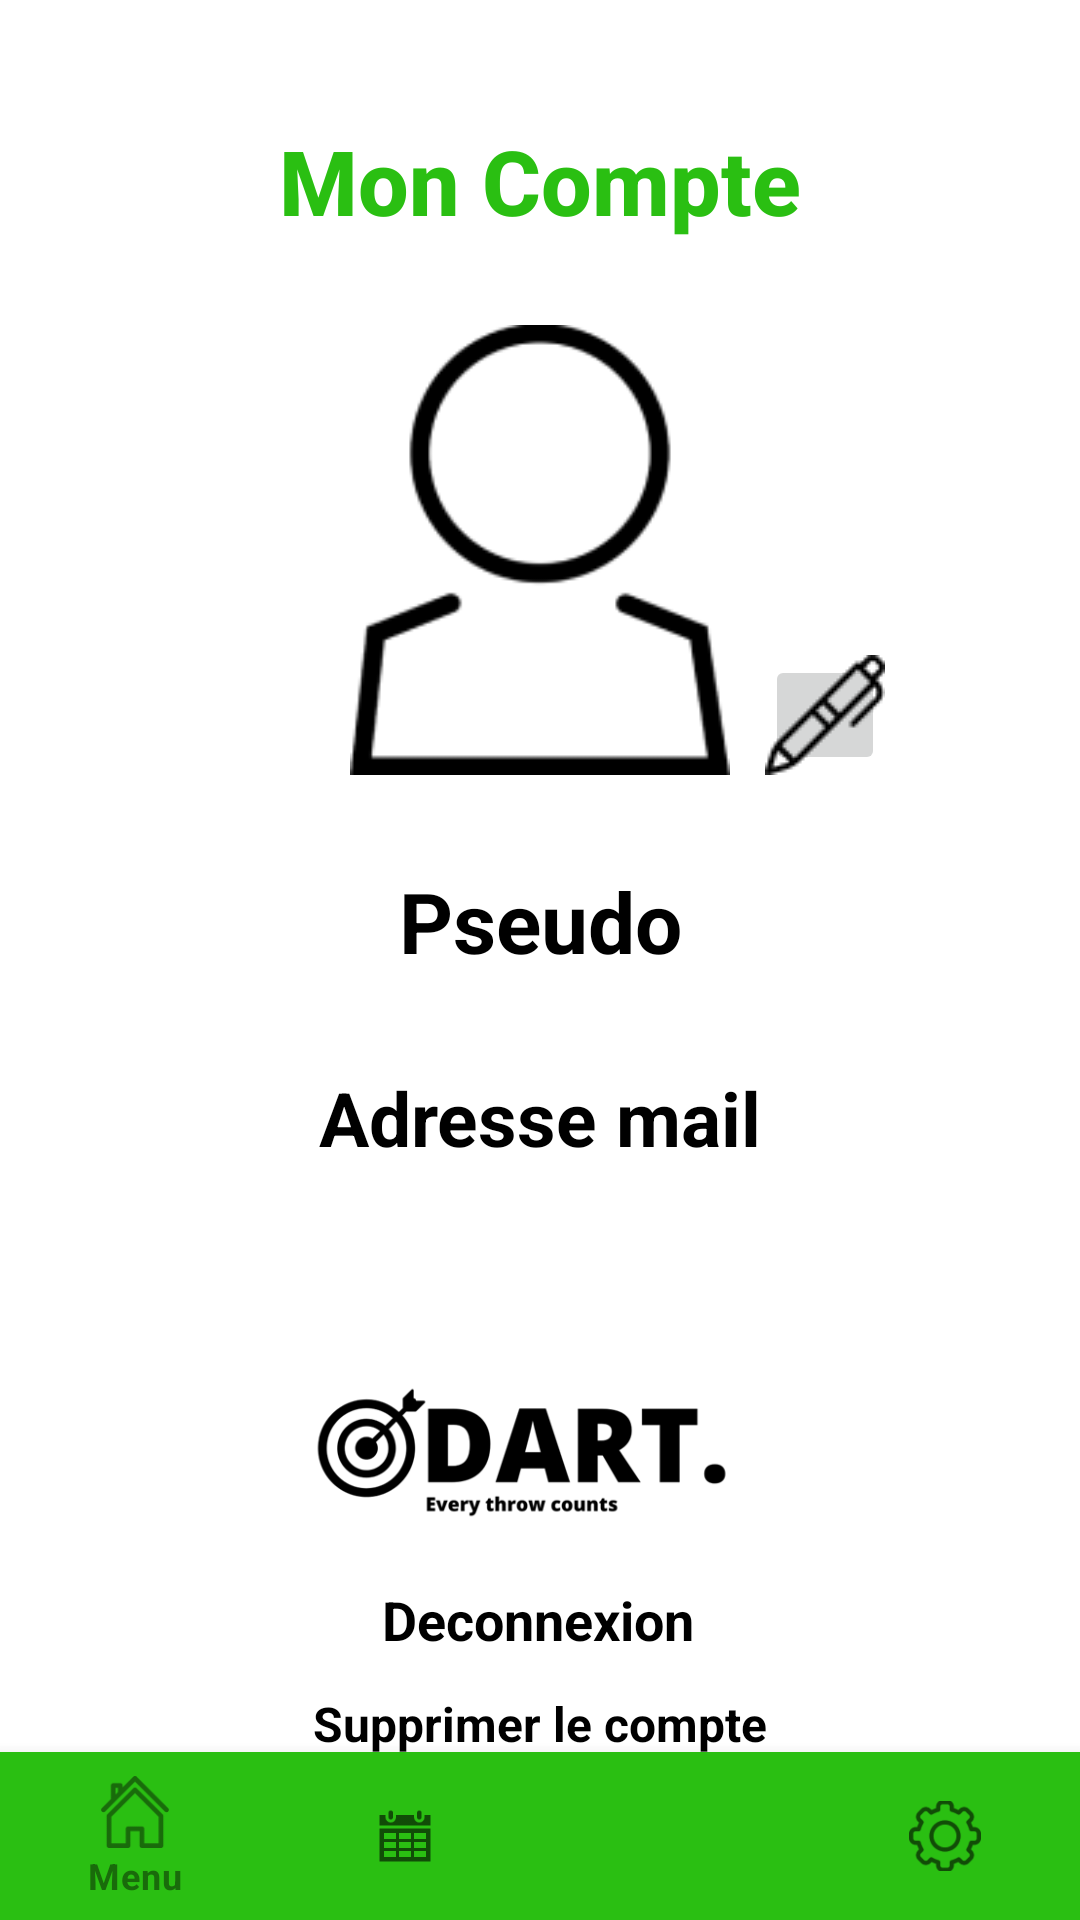

Locate icon controls on the screen. Image size 1080px×1920px, boxes as (x1, y1, x2, y2).
Image de stylo: (765, 655, 885, 775)
